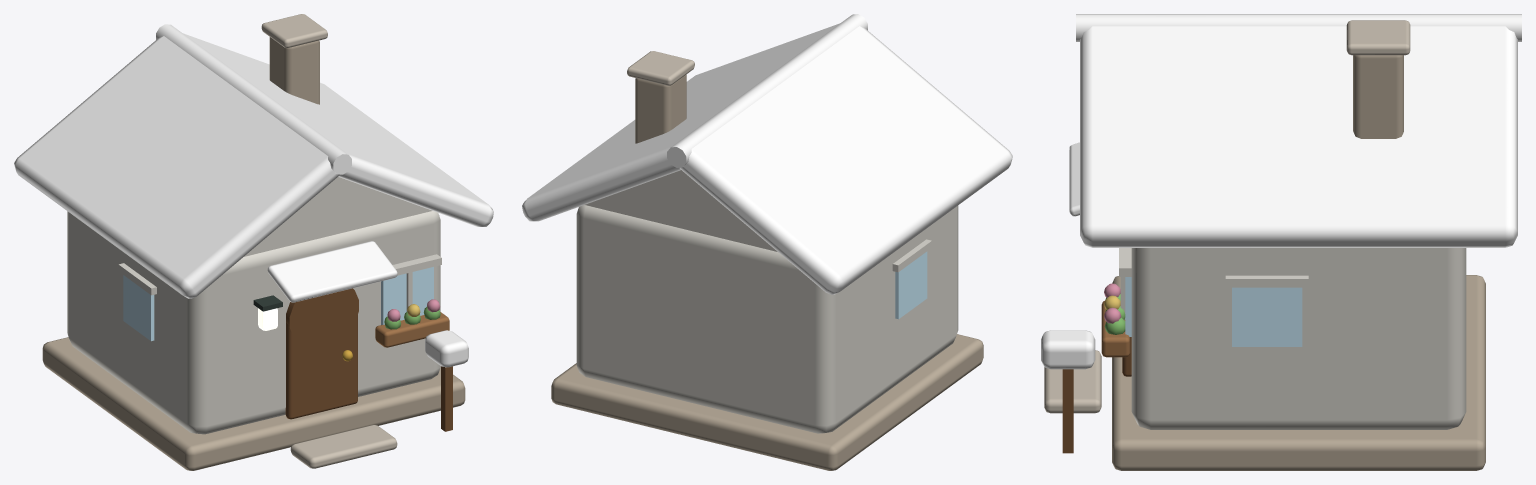
File: prop_town_house_ph.glb
3 views of the same model, side by side, from view 1: azimuth 30°, elevation 25°; view 2: azimuth 150°, elevation 25°; view 3: azimuth 270°, elevation 25° (orthographic). The views are drawn at different scales.
Parts seen in each view (by area): view 1: prop_town_house; view 2: prop_town_house; view 3: prop_town_house.
Boxes of the visible parts, bbox=[...] form: prop_town_house: bbox=[14, 14, 493, 470]; prop_town_house: bbox=[522, 14, 1012, 470]; prop_town_house: bbox=[1041, 14, 1521, 470].
Bounding box in the file's own units: 2.85 × 2.78 × 3.02.
